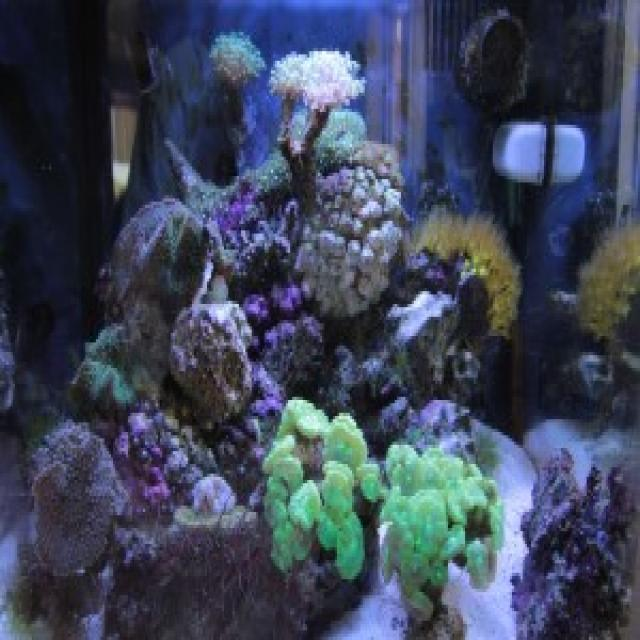Healthy: (263, 398, 502, 615), (108, 507, 359, 638), (74, 199, 210, 407), (513, 449, 630, 638), (167, 139, 300, 295), (295, 145, 408, 318), (33, 423, 127, 574), (413, 206, 519, 337), (116, 404, 219, 507), (216, 363, 283, 500), (172, 305, 251, 420), (244, 283, 323, 391), (272, 49, 364, 107), (212, 33, 263, 84)
